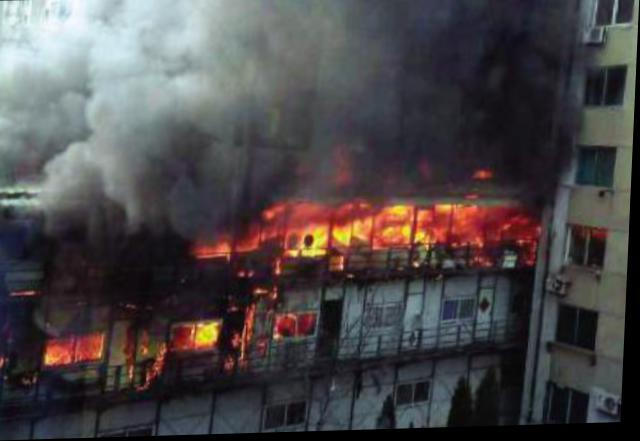fire: (293, 196, 545, 248), (48, 331, 105, 365), (174, 318, 227, 352), (200, 237, 263, 254), (265, 205, 291, 238)
